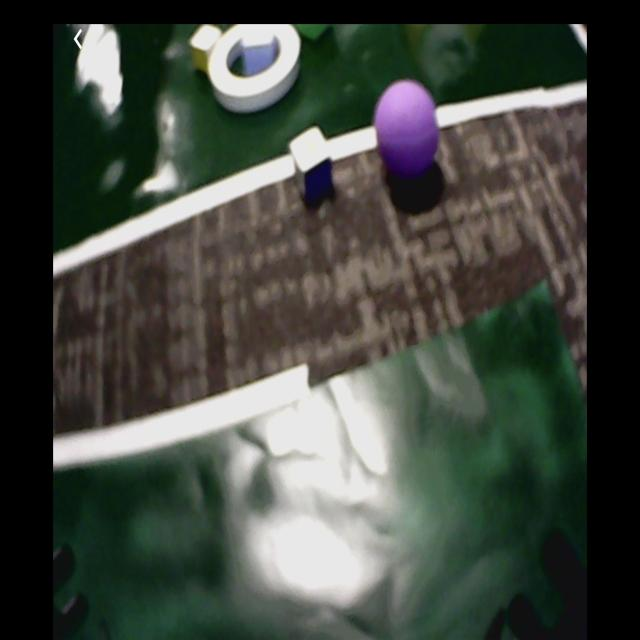ball: (377, 80, 439, 176)
